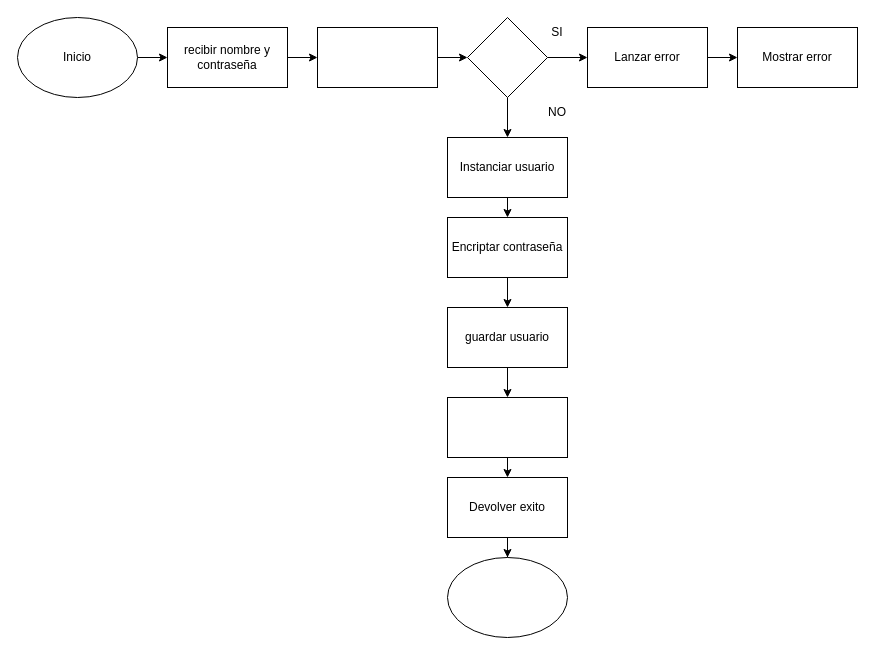
Image size: 875x655. Some labels were removed from this diagram. The centre of each missing label's shape, as x and y in pixels:
crear_usuario: (377,57)
Fin: (507,597)
Resgistrar evento de auditoria: (507,427)
¿Usuario ya existe?: (507,57)
